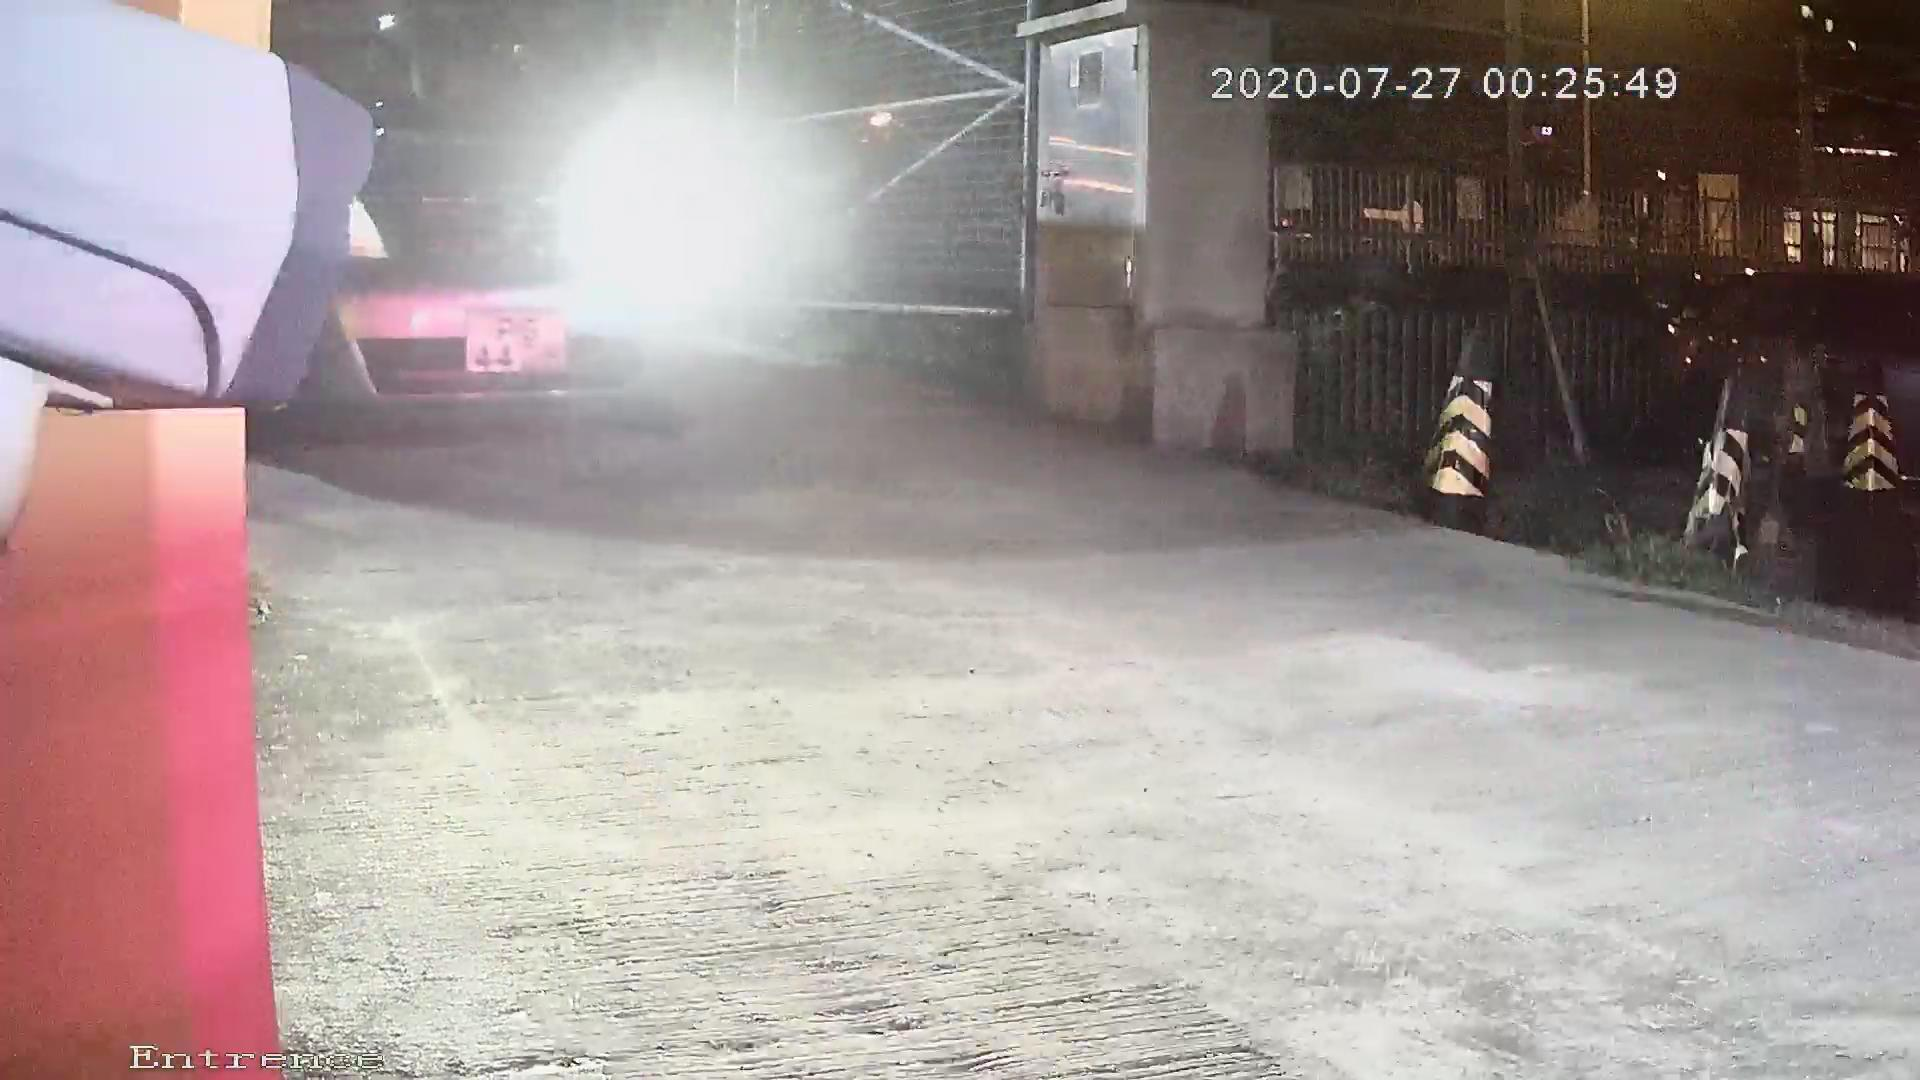License Plate: (450, 281, 587, 391)
